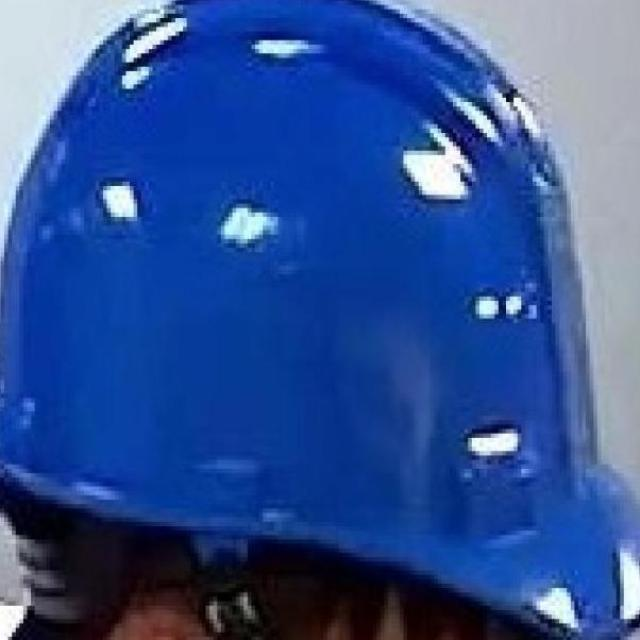blue helmet: (4, 6, 632, 640)
